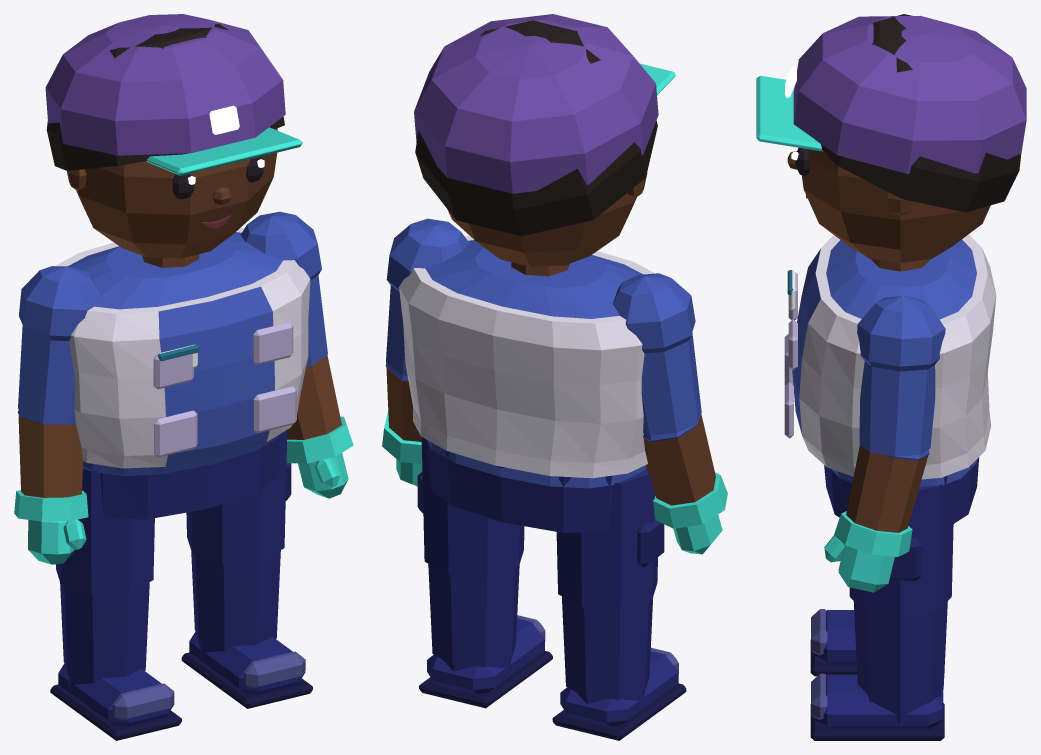
File: auf_pri.glb
3 renders of one model, left to right at view 1: azimuth 30°, elevation 25°; view 2: azimuth 150°, elevation 25°; view 3: azimuth 270°, elevation 25°, orthographic.
Visible parts, largest first — view 1: weste, kopfbedeckung, arm_r, bein_r, bein_l, kopf, torso, arm_l, becken, taschen, schuh_r, schuh_l (+4 smaller); view 2: weste, kopfbedeckung, bein_r, arm_r, bein_l, haare, torso, becken, arm_l, kopf, schuh_r, schuh_l (+1 smaller); view 3: kopfbedeckung, weste, arm_l, bein_l, kopf, torso, haare, schuh_l, schuh_r, becken, hand_l, taschen (+2 smaller).
Boxes of the visible parts, left/top/right/bottom form: weste: left=55, top=227, right=310, bottom=468; kopfbedeckung: left=45, top=14, right=302, bottom=175; arm_r: left=14, top=266, right=99, bottom=521; bein_r: left=55, top=466, right=154, bottom=683; bein_l: left=186, top=430, right=291, bottom=651; kopf: left=67, top=128, right=277, bottom=258; torso: left=67, top=232, right=282, bottom=476; arm_l: left=240, top=211, right=353, bottom=463; becken: left=100, top=433, right=281, bottom=519; taschen: left=153, top=322, right=296, bottom=457; schuh_r: left=50, top=664, right=181, bottom=740; schuh_l: left=181, top=632, right=312, bottom=708; weste: left=399, top=235, right=654, bottom=478; kopfbedeckung: left=414, top=14, right=675, bottom=193; bein_r: left=556, top=469, right=664, bottom=699; arm_r: left=612, top=273, right=727, bottom=528; bein_l: left=417, top=437, right=524, bottom=666; haare: left=415, top=20, right=657, bottom=236; torso: left=425, top=240, right=646, bottom=488; becken: left=426, top=440, right=612, bottom=532; arm_l: left=382, top=218, right=469, bottom=463; kopf: left=447, top=172, right=647, bottom=266; schuh_r: left=552, top=647, right=686, bottom=740; schuh_l: left=419, top=615, right=552, bottom=708; kopfbedeckung: left=756, top=15, right=1026, bottom=173; weste: left=792, top=234, right=996, bottom=479; arm_l: left=834, top=296, right=945, bottom=556; bein_l: left=849, top=484, right=953, bottom=707; kopf: left=801, top=149, right=990, bottom=262; torso: left=826, top=239, right=977, bottom=487; haare: left=817, top=14, right=1021, bottom=212; schuh_l: left=810, top=673, right=944, bottom=740; schuh_r: left=810, top=609, right=944, bottom=676; becken: left=824, top=457, right=979, bottom=530; hand_l: left=824, top=535, right=894, bottom=592; taschen: left=784, top=271, right=797, bottom=438.
Size of the model in its own units: 0.0124 by 0.0234 by 0.00866.
